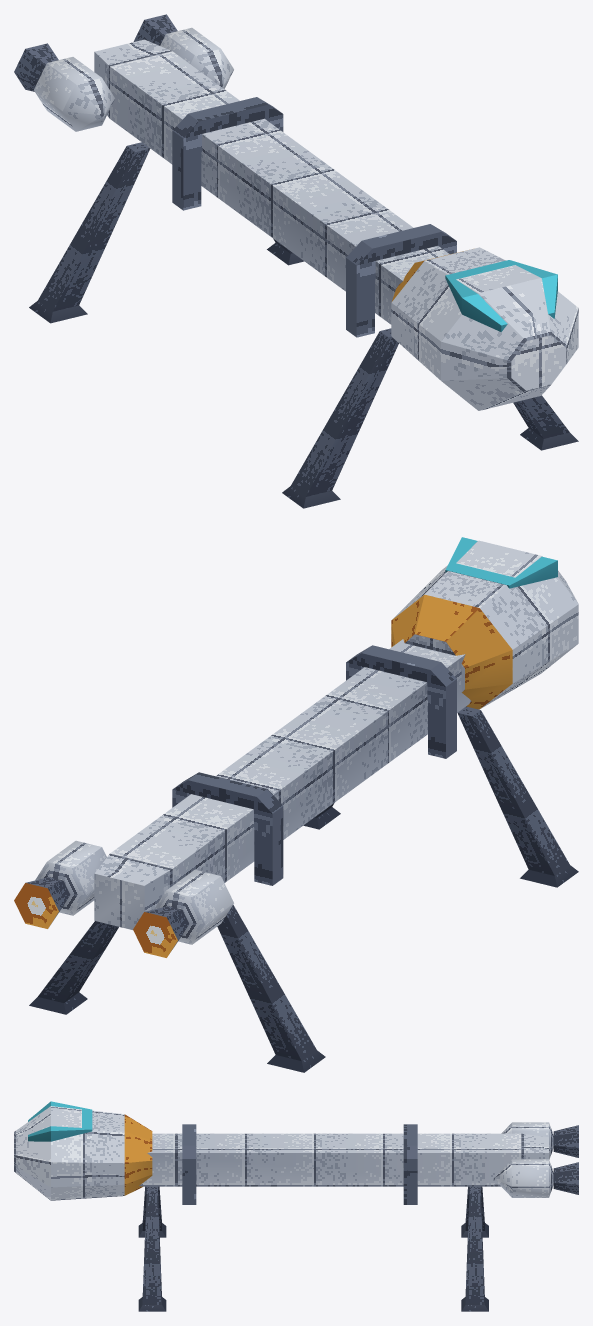
Rendered from ship.hauler__empty.glb.
3 views of the same model, one above another, from view 1: azimuth 30°, elevation 25°; view 2: azimuth 150°, elevation 25°; view 3: azimuth 270°, elevation 25° (orthographic). The views are drawn at different scales.
Visible parts, largest first — view 1: kit_spine, kit_cab, kit_legs, kit_clamps, kit_nacelles, kit_cab_glass, kit_bells; view 2: kit_spine, kit_cab, kit_legs, kit_clamps, kit_nacelles, kit_bells, kit_cab_glass; view 3: kit_spine, kit_cab, kit_legs, kit_nacelles, kit_clamps, kit_bells, kit_cab_glass.
Boxes of the visible parts, left/top/right/bottom form: kit_spine: left=94, top=39, right=449, bottom=324; kit_cab: left=391, top=247, right=578, bottom=410; kit_legs: left=29, top=142, right=578, bottom=508; kit_clamps: left=172, top=97, right=456, bottom=337; kit_nacelles: left=34, top=27, right=233, bottom=131; kit_cab_glass: left=445, top=260, right=557, bottom=332; kit_bells: left=14, top=14, right=177, bottom=91; kit_spine: left=94, top=639, right=471, bottom=929; kit_cab: left=391, top=540, right=578, bottom=709; kit_legs: left=29, top=706, right=578, bottom=1072; kit_clamps: left=172, top=645, right=456, bottom=885; kit_nacelles: left=35, top=840, right=233, bottom=944; kit_bells: left=14, top=877, right=188, bottom=957; kit_cab_glass: left=445, top=537, right=557, bottom=588; kit_spine: left=139, top=1133, right=548, bottom=1186; kit_cab: left=14, top=1106, right=152, bottom=1200; kit_legs: left=138, top=1186, right=488, bottom=1311; kit_nacelles: left=494, top=1122, right=553, bottom=1197; kit_clamps: left=182, top=1124, right=417, bottom=1204; kit_bells: left=553, top=1125, right=578, bottom=1194; kit_cab_glass: left=28, top=1101, right=92, bottom=1141.
Size of the model in its own units: 4.4 by 3.66 by 12.25.
Materials: 6 (5 with a texture image).
